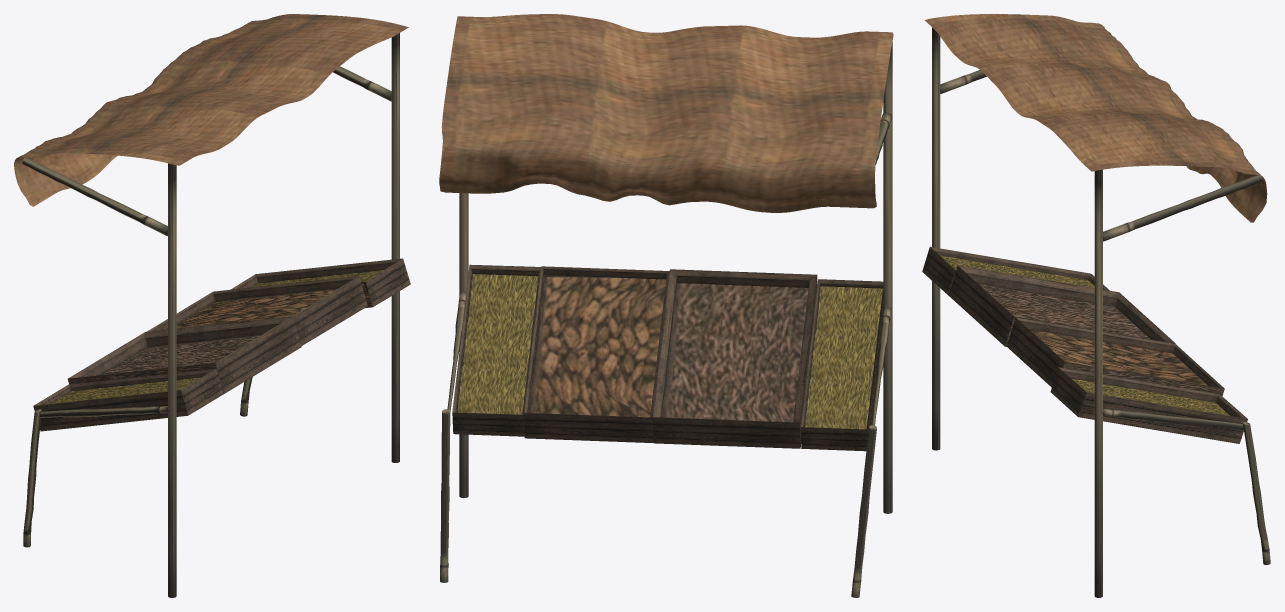
Rendered from MarketCart_.fbx.
The picture shows the model from 3 angles, left to right: view 1: azimuth 30°, elevation 25°; view 2: azimuth 150°, elevation 25°; view 3: azimuth 270°, elevation 25°; orthographic projection. The views are drawn at different scales.
Visible parts, largest first — view 1: Cart; view 2: Cart; view 3: Cart.
Boxes of the visible parts, <box> form: Cart: <box>14,14,410,597</box>; Cart: <box>439,14,893,597</box>; Cart: <box>922,14,1270,597</box>.
Bounding box in the file's own units: 33.18 × 35.88 × 26.09.
